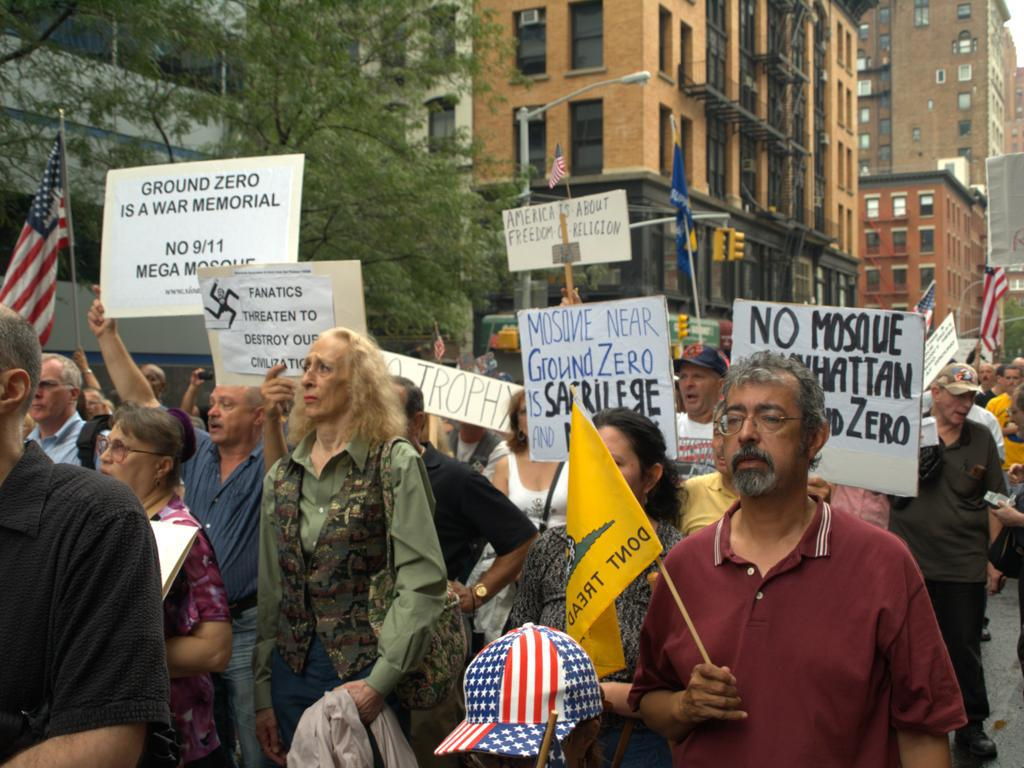face: (724, 380, 795, 499), (302, 334, 350, 419), (96, 427, 159, 490), (586, 427, 635, 506), (28, 359, 67, 422), (672, 361, 714, 417), (206, 386, 247, 442), (373, 383, 408, 442), (711, 411, 738, 474), (518, 398, 551, 441), (946, 382, 976, 426), (134, 364, 161, 399), (458, 396, 484, 427), (81, 393, 102, 421), (1007, 394, 1021, 434), (1000, 367, 1019, 387), (978, 364, 992, 382)
